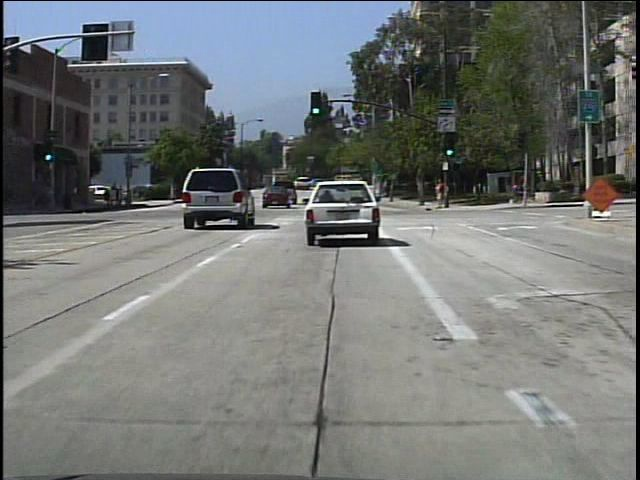person: (430, 174, 447, 210), (109, 180, 121, 209), (123, 182, 124, 209)
